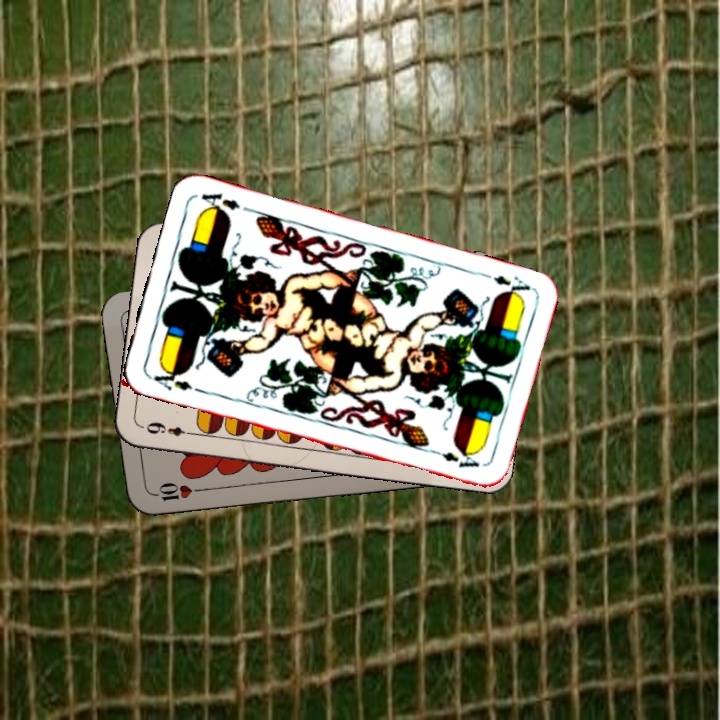E9: (142, 418, 198, 439)
EA: (476, 268, 533, 301), (145, 363, 195, 393)
H10: (146, 479, 206, 504)
